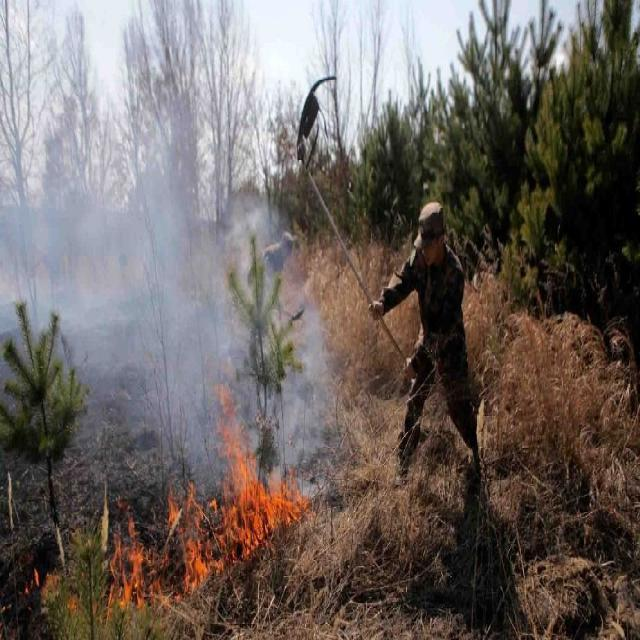Fire: (104, 380, 310, 620), (23, 562, 41, 597)
Smoke: (0, 1, 342, 502)
